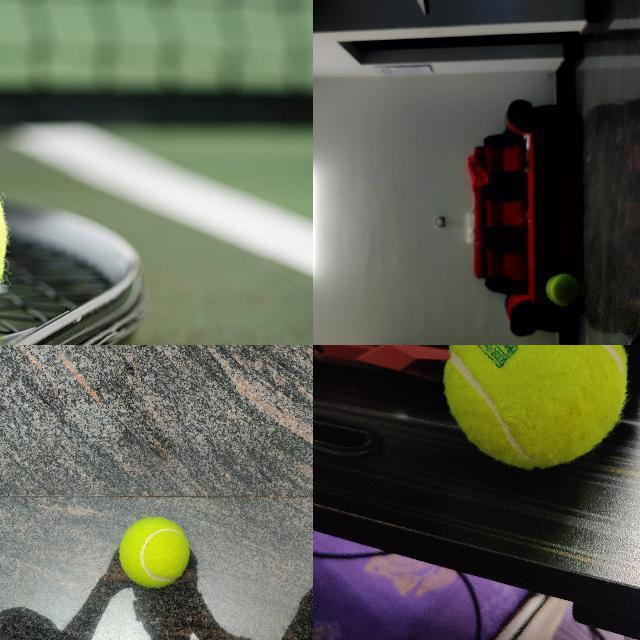tennis-ball: (441, 345, 631, 471), (119, 516, 189, 588), (546, 274, 581, 307)
